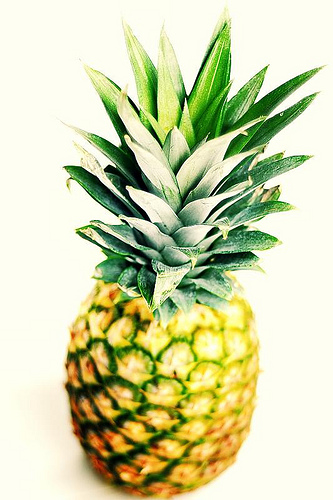pineapple: (60, 13, 329, 498)
